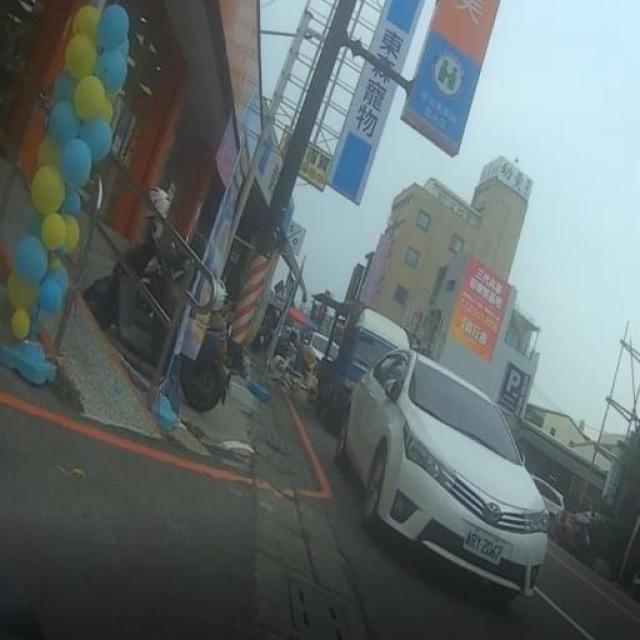Legalparking: (316, 260, 595, 617)
